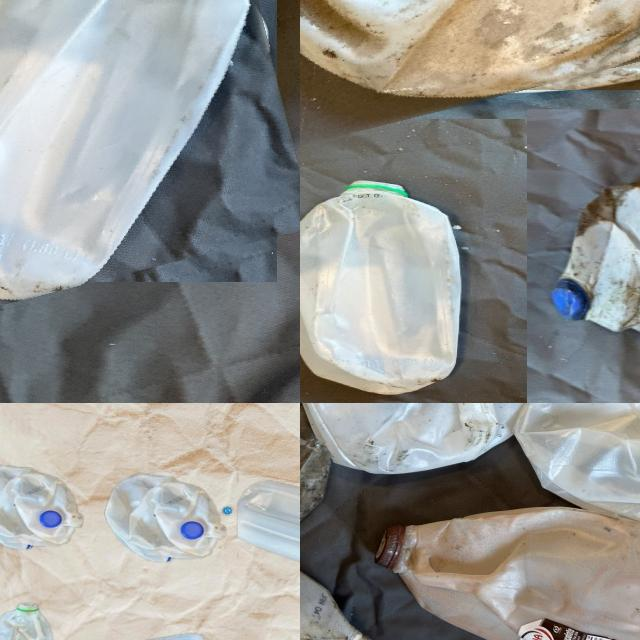milk-jug: (0, 0, 295, 304), (300, 0, 640, 121), (361, 504, 640, 640), (300, 177, 464, 393), (300, 403, 560, 478), (510, 403, 640, 549), (552, 164, 640, 349), (108, 470, 222, 564), (300, 545, 382, 640), (0, 466, 84, 548), (232, 491, 300, 581), (0, 604, 58, 640)
